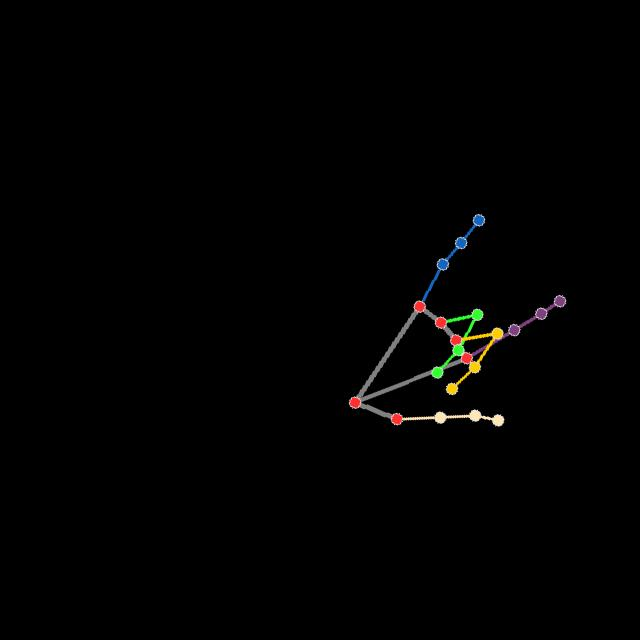spiderman: (348, 209, 570, 435)
